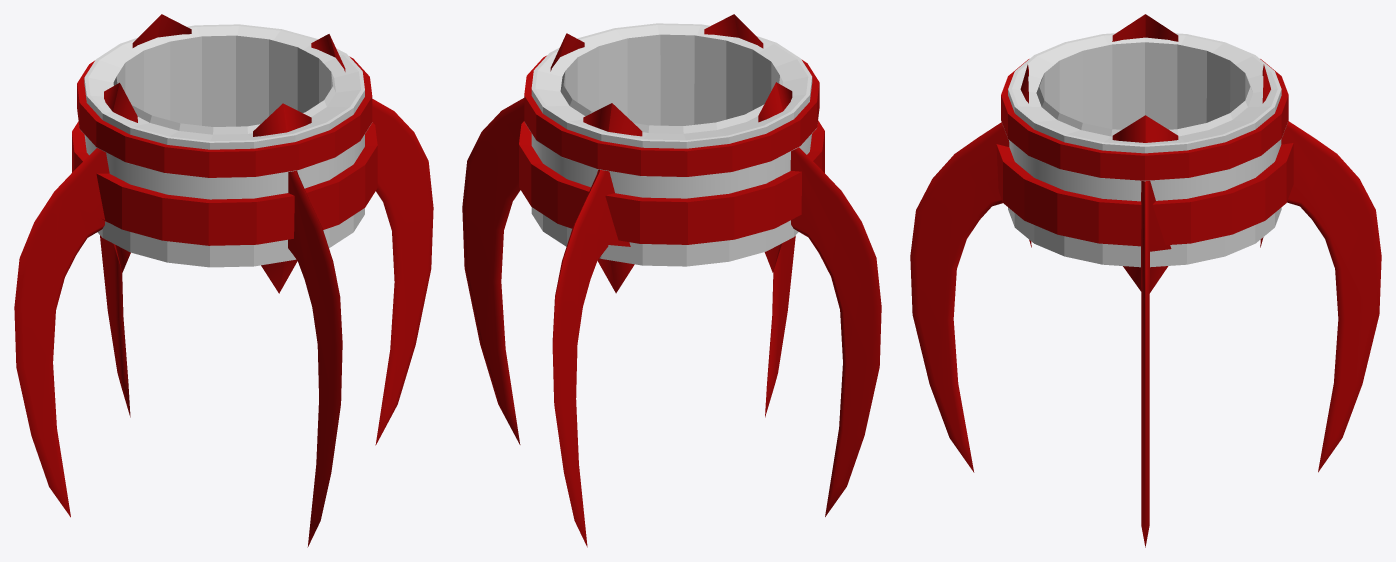
File: RocketPart1.fbx
The picture shows the model from 3 angles, left to right: view 1: azimuth 30°, elevation 25°; view 2: azimuth 150°, elevation 25°; view 3: azimuth 270°, elevation 25°; orthographic projection. The views are drawn at different scales.
Visible parts, largest first — view 1: polySurface12, polySurface16; view 2: polySurface12, polySurface16; view 3: polySurface12, polySurface16.
Part boxes in pixels (bbox=[...]): polySurface12: bbox=[72, 24, 377, 267]; polySurface16: bbox=[14, 14, 433, 547]; polySurface12: bbox=[519, 23, 824, 266]; polySurface16: bbox=[462, 14, 881, 547]; polySurface12: bbox=[996, 33, 1293, 267]; polySurface16: bbox=[910, 14, 1381, 547].
Size of the model in its own units: 11.19 by 10.87 by 11.24.
